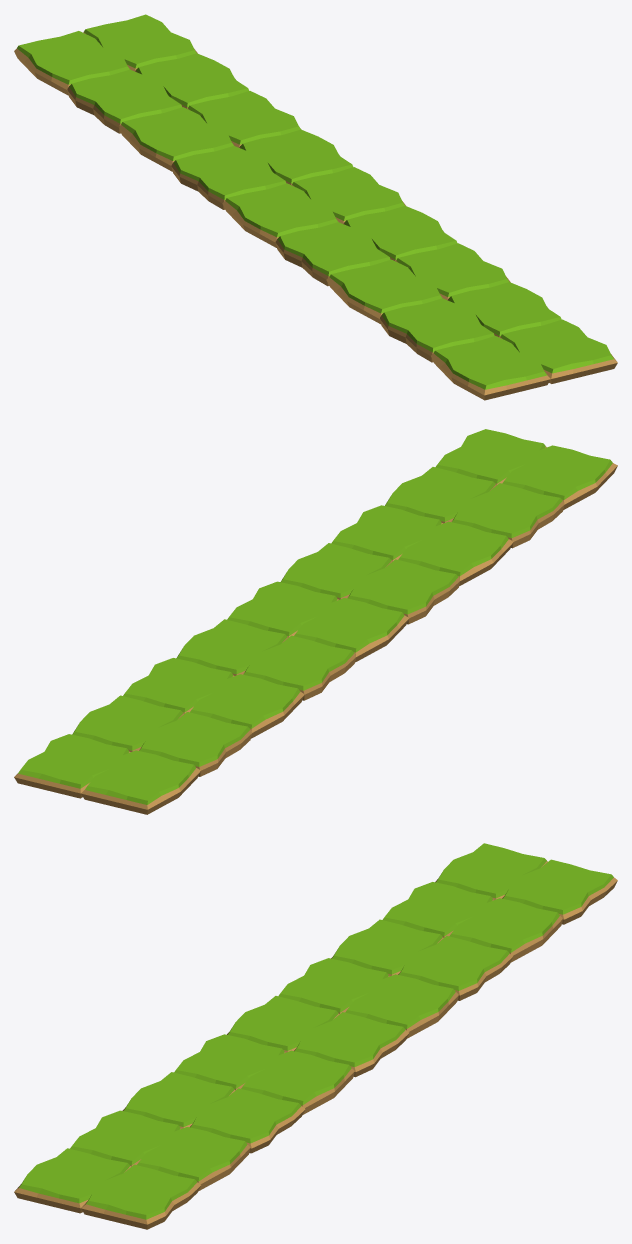
The model's file is Double_Tiles.fbx.
3 renders of one model, top to bottom at view 1: azimuth 30°, elevation 25°; view 2: azimuth 150°, elevation 25°; view 3: azimuth 330°, elevation 25°, orthographic.
Parts seen in each view (by area): view 1: Double_Tiles; view 2: Double_Tiles; view 3: Double_Tiles.
Boxes of the visible parts, x1,y1,x2,y2 form: Double_Tiles: (14, 14, 617, 400); Double_Tiles: (14, 429, 617, 814); Double_Tiles: (14, 843, 617, 1229).
Size of the model in its own units: 900 by 80.62 by 5051.
